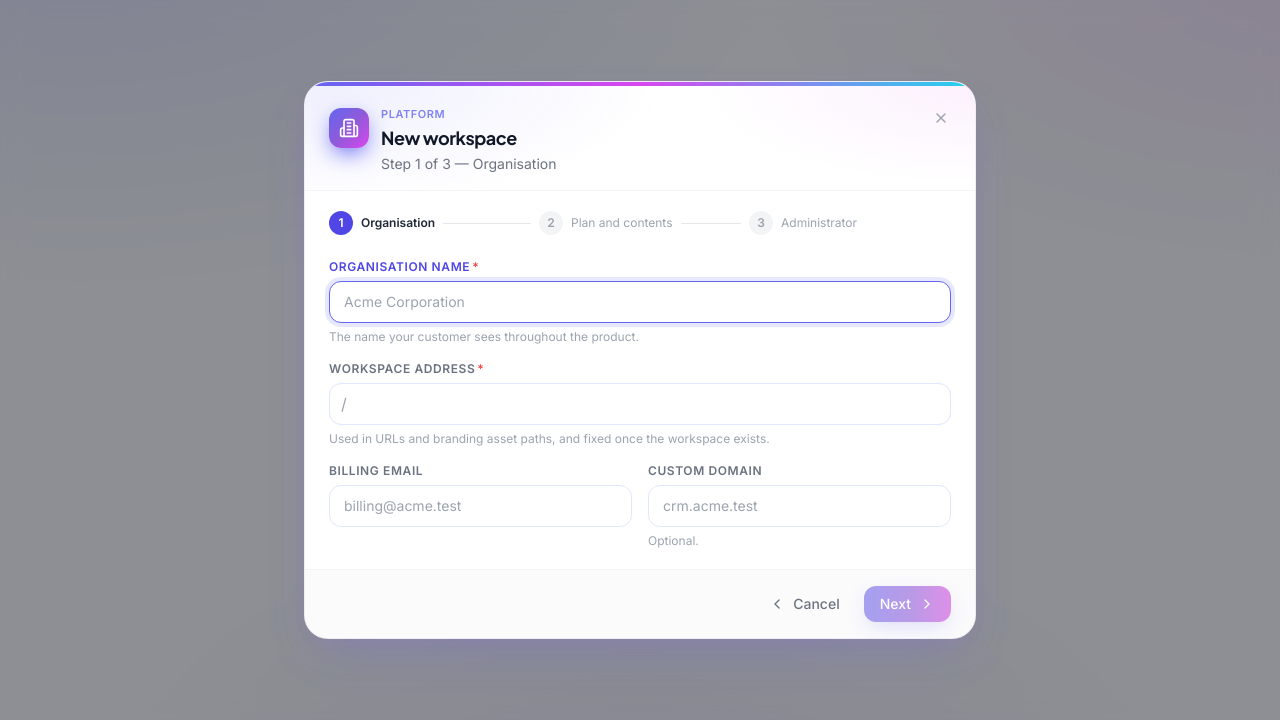
TenantOnboardWizard › derives the workspace address from the name so nobody has to invent one
The width and height of the screenshot is (1280, 720).
In the field labelled "Organisation name*": (640, 302) [329,281,951,323], type "Acme Life"
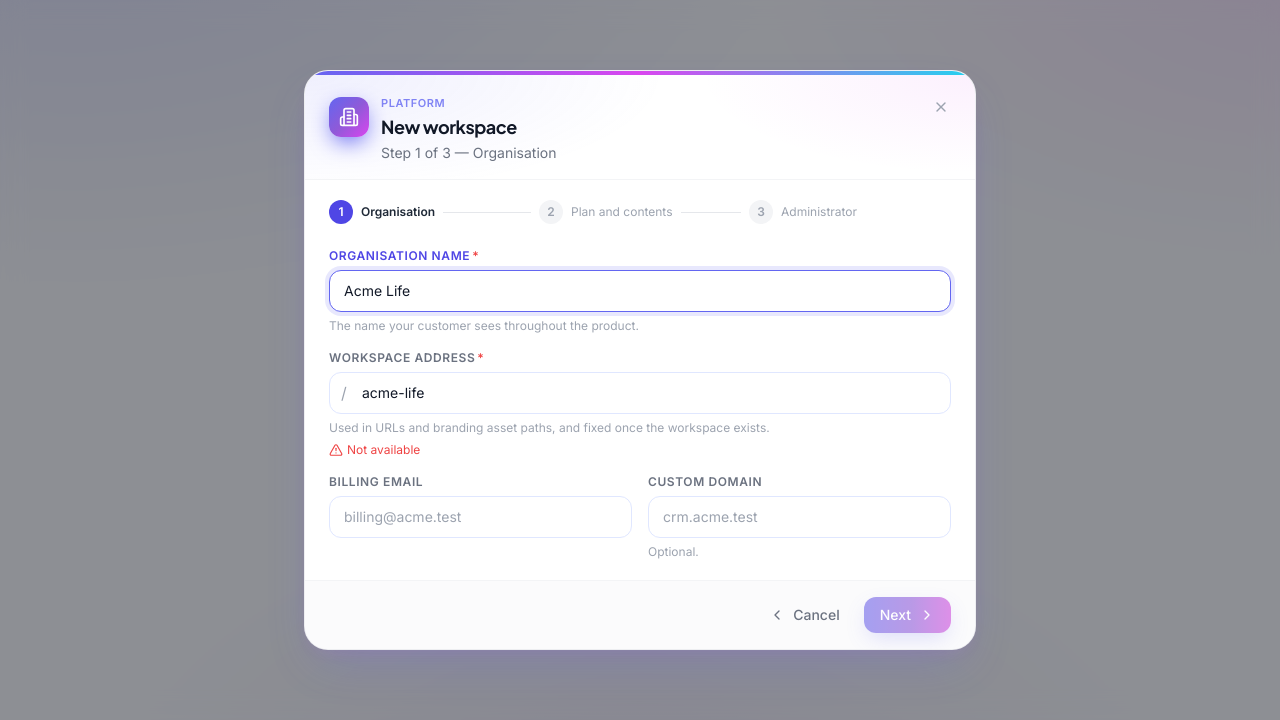
Expected: the field labelled "Workspace address*" holds "acme-life", [329,372,951,414]
